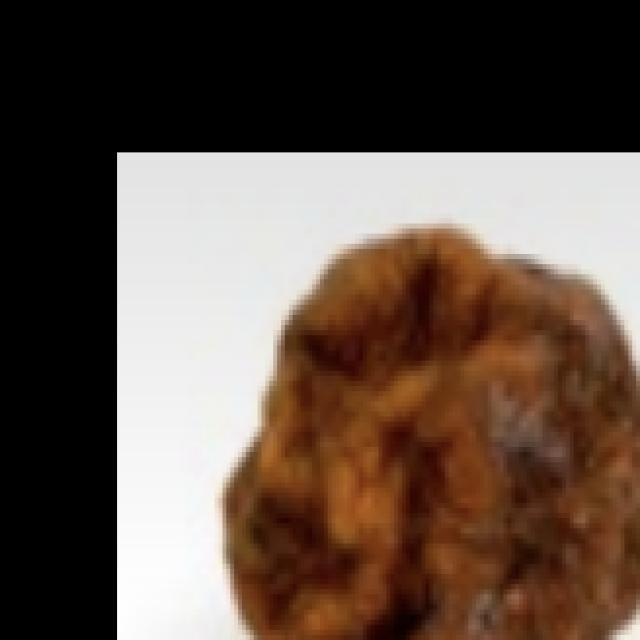sangat-busuk: (225, 227, 639, 639)
